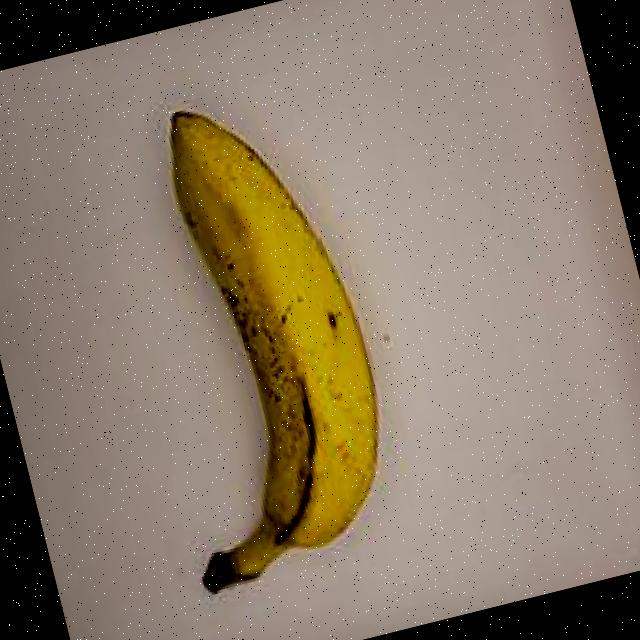Overripe: (67, 39, 455, 632)
